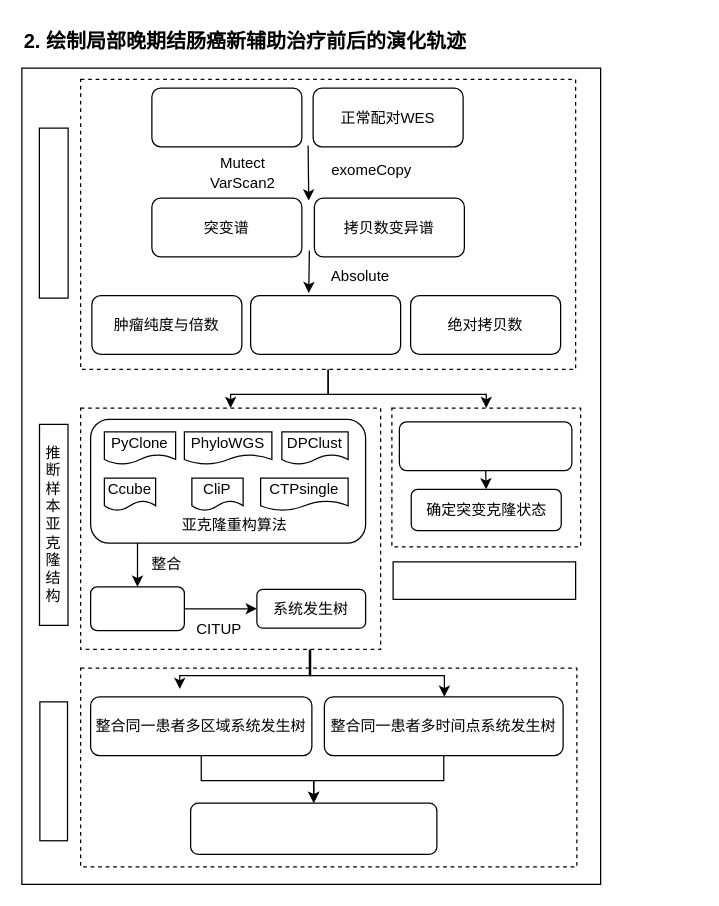
The diagram is 719 pixels wide and 906 high, and some of its shapes have lost their labels. Here are the shapes that lost their labels. From the top down, the centre of each, then its label:
At [226,117]: "多时间点多区域WES".
At [53,212]: "变异事件识别".
At [325,324]: "变异等位频率".
At [485,446]: "计算突变肿瘤细胞比例".
At [484,580]: "推断遗传改变克隆状态".
At [136,608]: "亚克隆结构".
At [53,771]: "绘制演化轨迹".
At [313,828]: "构建患者动态演化克隆".
